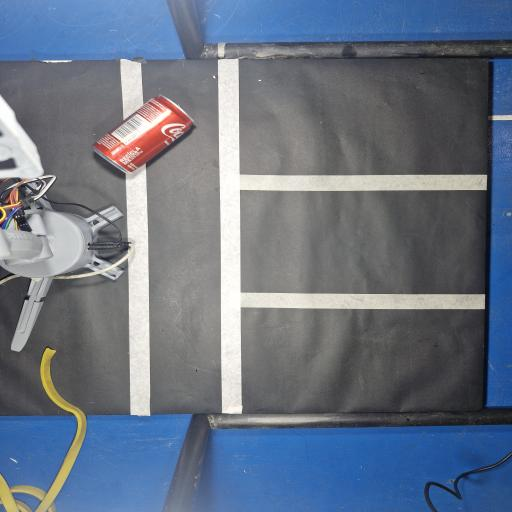lata: (94, 96, 193, 174)
